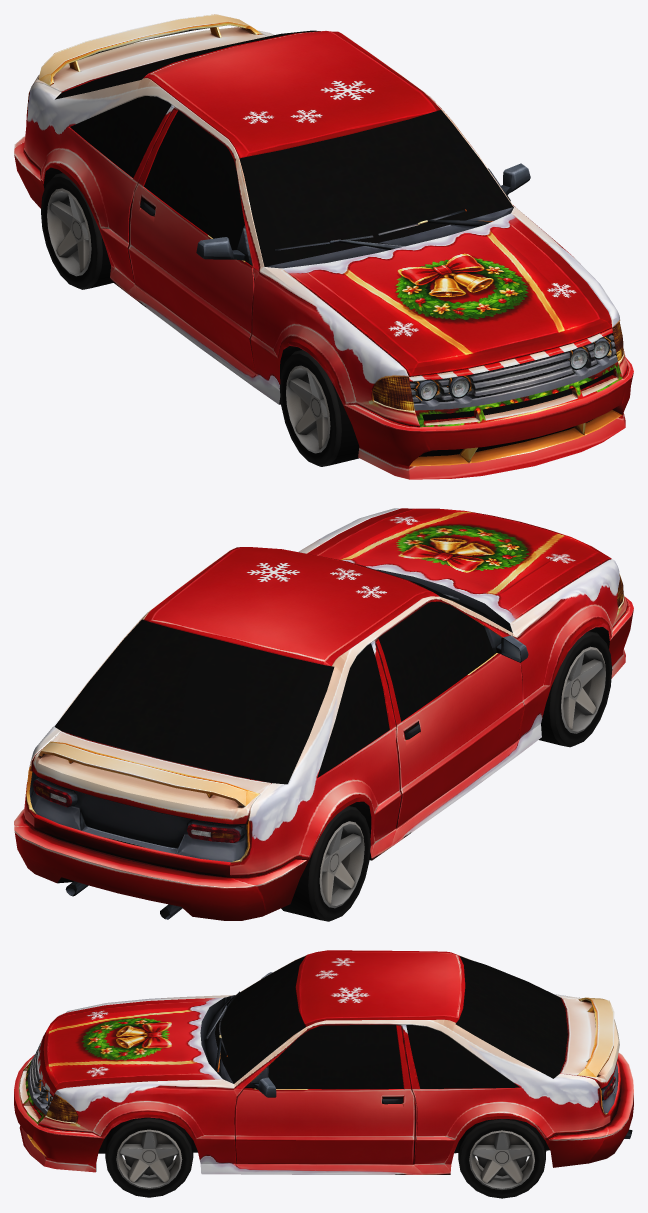
The model's file is car1 (1).fbx.
3 renders of one model, top to bottom at view 1: azimuth 30°, elevation 25°; view 2: azimuth 150°, elevation 25°; view 3: azimuth 270°, elevation 25°, orthographic. The views are drawn at different scales.
Parts seen in each view (by area): view 1: Coupe Body_Glass_0.001, Wheel_F002_Wheel_0.001, Wheel_F003_Wheel_0.001; view 2: Coupe Body_Glass_0.001, Wheel_F003_Wheel_0.001, Wheel_F002_Wheel_0.001; view 3: Coupe Body_Glass_0.001, Wheel_F_Wheel_0.001, Wheel_F001_Wheel_0.001.
Boxes of the visible parts, bbox=[...] form: Coupe Body_Glass_0.001: bbox=[14, 14, 633, 479]; Wheel_F002_Wheel_0.001: bbox=[279, 349, 359, 466]; Wheel_F003_Wheel_0.001: bbox=[41, 173, 113, 289]; Coupe Body_Glass_0.001: bbox=[14, 508, 633, 920]; Wheel_F003_Wheel_0.001: bbox=[281, 805, 370, 921]; Wheel_F002_Wheel_0.001: bbox=[539, 631, 612, 747]; Coupe Body_Glass_0.001: bbox=[14, 950, 633, 1174]; Wheel_F_Wheel_0.001: bbox=[105, 1117, 193, 1197]; Wheel_F001_Wheel_0.001: bbox=[458, 1119, 546, 1198].
Size of the model in its own units: 188 by 128 by 424.
Materials: 3 (3 with a texture image).
